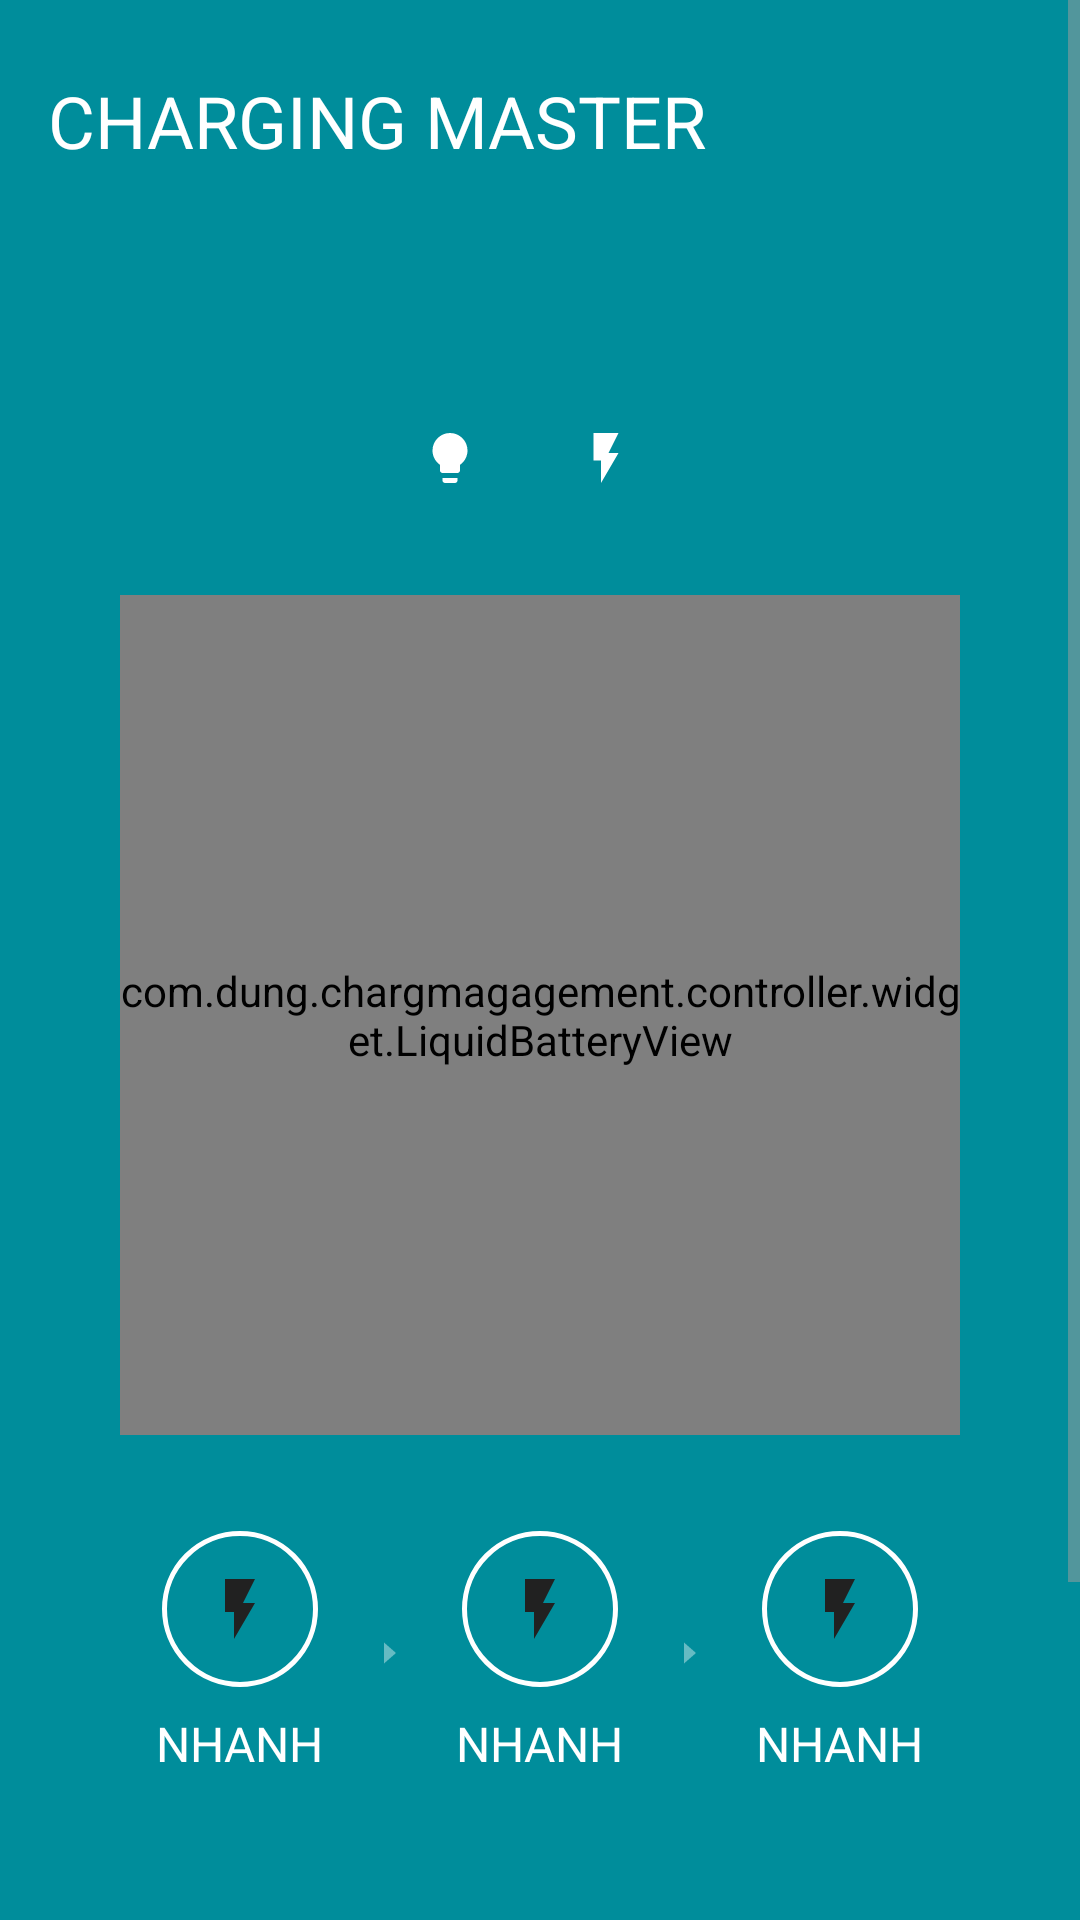

Screen size 1080x1920. Icon name, then its center in pixels as (x,y):
voltage: (606,458)
